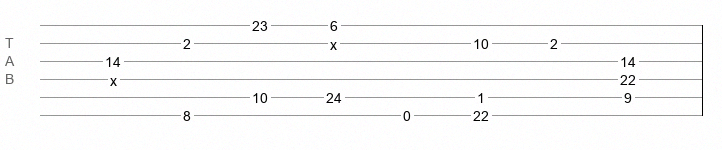0: (403, 108, 411, 118)
1: (477, 90, 485, 100)
10: (252, 90, 268, 100), (473, 36, 489, 46)
14: (105, 54, 121, 64), (620, 54, 636, 64)
2: (183, 36, 191, 46), (550, 36, 558, 46)
22: (473, 108, 489, 118), (620, 72, 636, 82)
23: (252, 18, 268, 28)
24: (326, 90, 342, 100)
6: (330, 18, 338, 28)
8: (183, 108, 191, 118)
9: (624, 90, 632, 100)
x: (110, 73, 117, 81), (330, 37, 337, 45)
